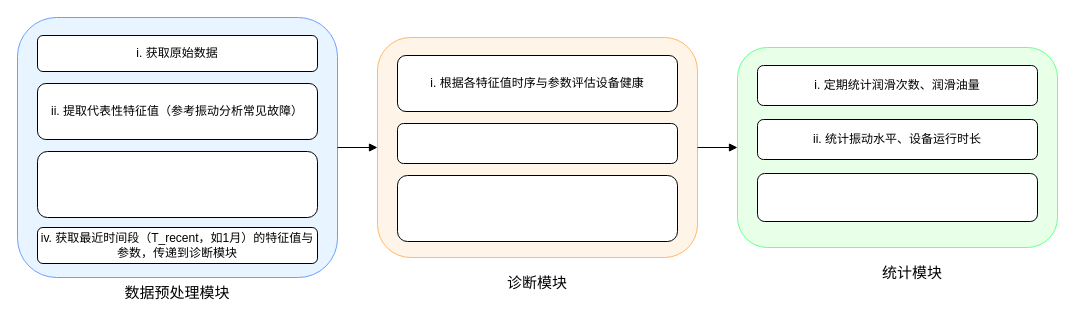
Some shapes in this 1075 by 325 pixel diagram are drawn without their labels. The centre of each missing label's shape, as x and y in pixels:
ii. 根据诊断结果决定是否发出加油指令: (537,143)
iii. 将特征值存入数据库（测点信息/特征/健康等级/告警/加油指令等）: (177,184)
iii. 统计设备故障次数，生成报表以便优化: (897,197)
iii. 评估上次/连续加油效果；若振动仍异常，推送“加油无法恢复”告警: (537,208)
